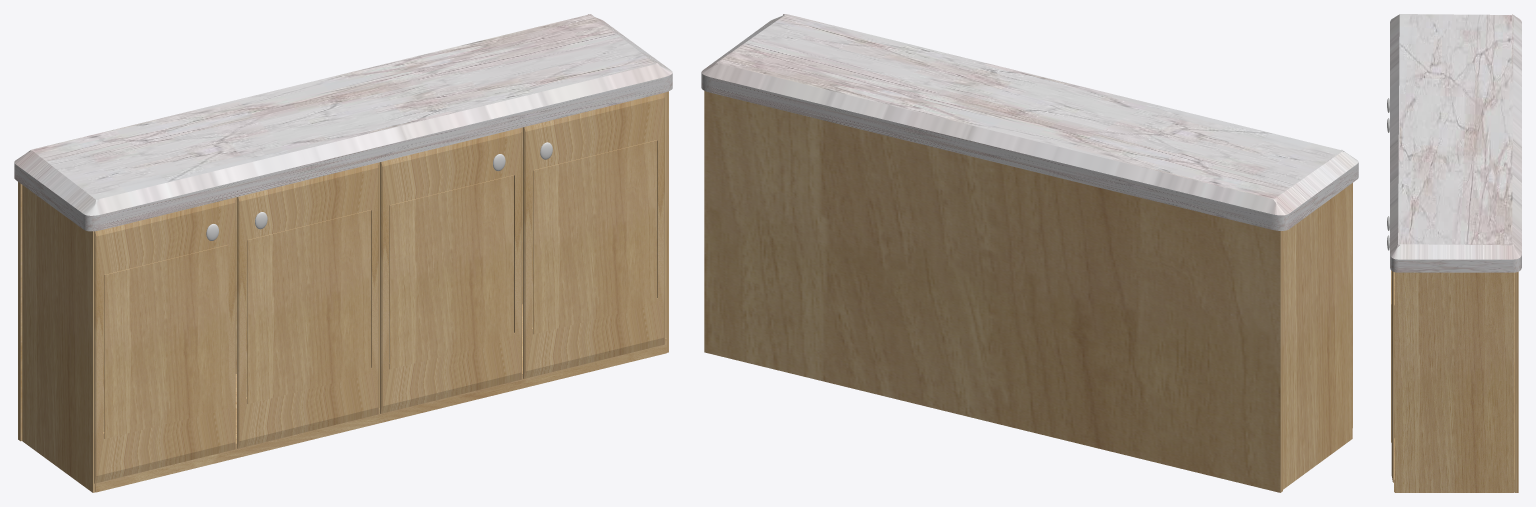
Rendered from long_small.FBX.
3 views of the same model, side by side, from view 1: azimuth 30°, elevation 25°; view 2: azimuth 150°, elevation 25°; view 3: azimuth 270°, elevation 25° (orthographic). The views are drawn at different scales.
Parts seen in each view (by area): view 1: Back, tableTop, handle1; view 2: Back, tableTop; view 3: tableTop, Back, handle1.
Boxes of the visible parts, x1,y1,x2,y2 form: Back: (18, 91, 668, 492); tableTop: (14, 14, 672, 231); handle1: (206, 142, 552, 240); Back: (704, 91, 1352, 492); tableTop: (701, 14, 1358, 230); tableTop: (1390, 14, 1521, 272); Back: (1391, 270, 1518, 492); handle1: (1387, 98, 1389, 250).
Size of the model in its own units: 386 by 182 by 90.96.
2 materials, 2 textured.
